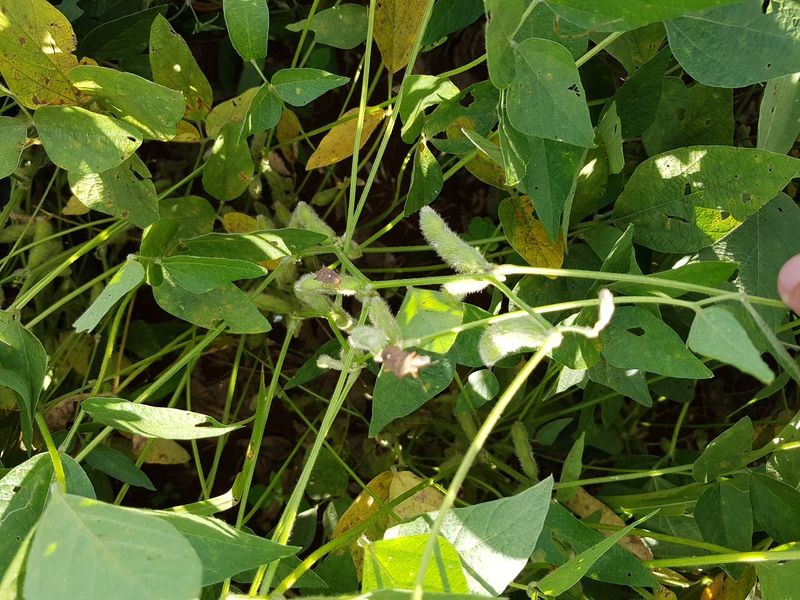Euschistus_heros_adulto: (376, 338, 437, 389), (310, 260, 346, 291)
